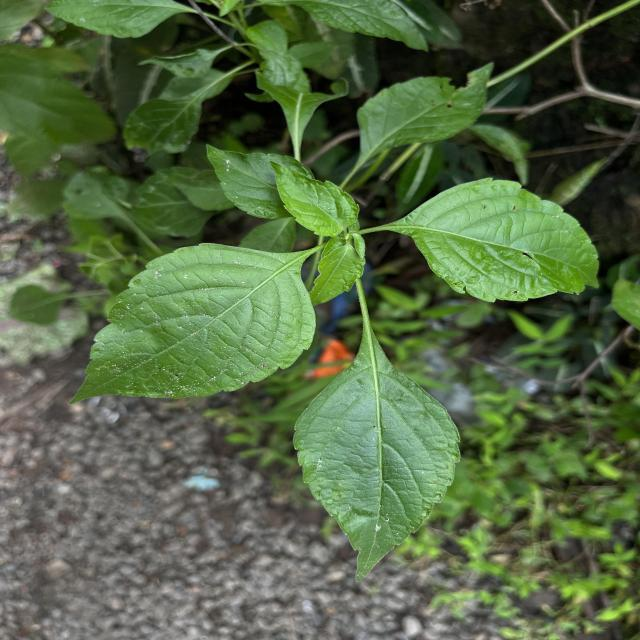Ocimum gratissimum: (290, 296, 464, 586), (66, 240, 320, 407), (376, 173, 603, 306), (266, 152, 362, 240)
